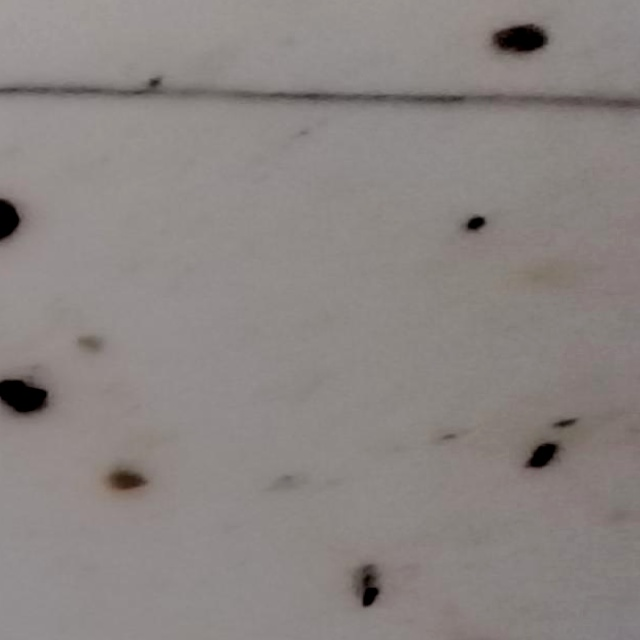varroa: (486, 19, 552, 57)
